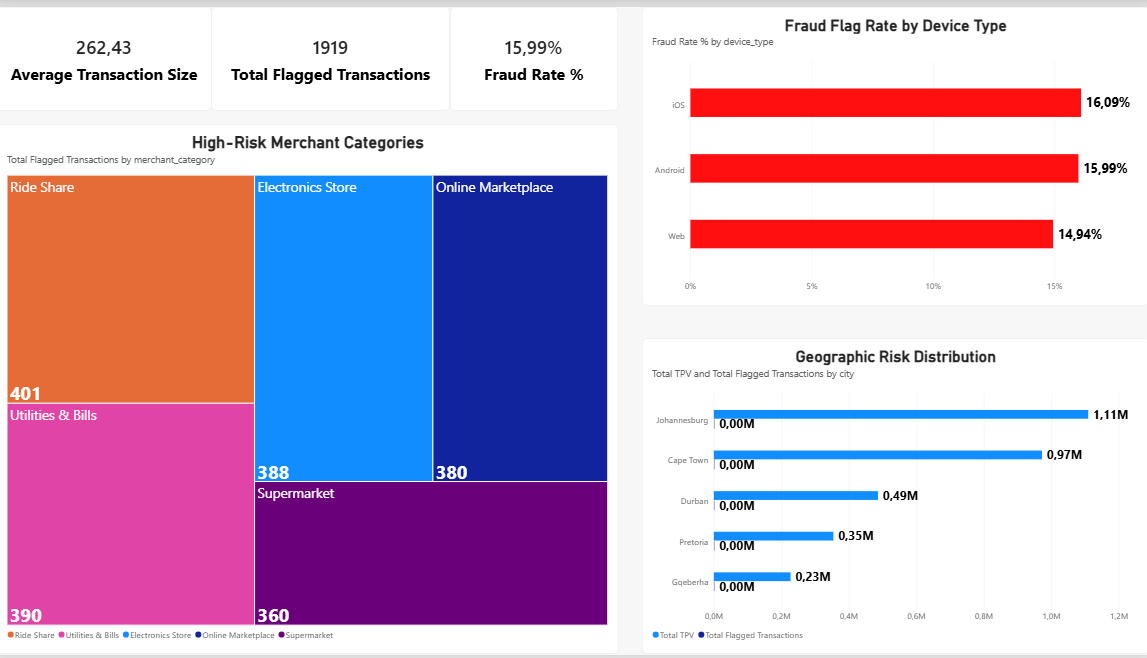

The dashboard page shown, as its layout file describes it:
{"tool":"powerbi","page":{"name":"Transaction Velocity & Fraud Risk Monitoring","canvas":[1920,1080],"ordinal":2},"visuals":[{"type":"card","fields":{"Values":["Fact_Transaction.Average Transaction Size"]},"box":[0,0,357.5,172.5],"z":0},{"type":"card","fields":{"Values":["Fact_Transaction.Total Flagged Transactions"]},"box":[357.5,0,397.5,172.5],"z":1},{"type":"card","fields":{"Values":["Fact_Transaction.Fraud Rate %"]},"box":[755,0,280,172.5],"z":2},{"type":"clusteredBarChart","title":"Fraud Flag Rate by Device Type","fields":{"Category":["Fact_Transaction.device_type"],"Y":["Fact_Transaction.Fraud Rate %"]},"box":[1075,0,845,497.5],"z":3},{"type":"treemap","title":"High-Risk Merchant Categories","fields":{"Group":["Fact_Transaction.merchant_category"],"Values":["Fact_Transaction.Total Flagged Transactions"]},"box":[0,195,1035,882.5],"z":4},{"type":"clusteredBarChart","title":"Geographic Risk Distribution","fields":{"Category":["Dim_Users.city"],"Y":["Fact_Transaction.Total TPV","Fact_Transaction.Total Flagged Transactions"]},"box":[1075,552.5,845,525],"z":5}]}

Visuals, with their boxes in screenshot pixels (x1, y1, x2, y2), scaled from the page's 1920x1080 canvas onto the 1147x658 screenshot:
card - Fact_Transaction.Average Transaction Size: <region>0, 0, 214, 105</region>
card - Fact_Transaction.Total Flagged Transactions: <region>214, 0, 451, 105</region>
card - Fact_Transaction.Fraud Rate %: <region>451, 0, 618, 105</region>
"Fraud Flag Rate by Device Type" clusteredBarChart: <region>642, 0, 1146, 303</region>
"High-Risk Merchant Categories" treemap: <region>0, 119, 618, 656</region>
"Geographic Risk Distribution" clusteredBarChart: <region>642, 337, 1146, 656</region>
